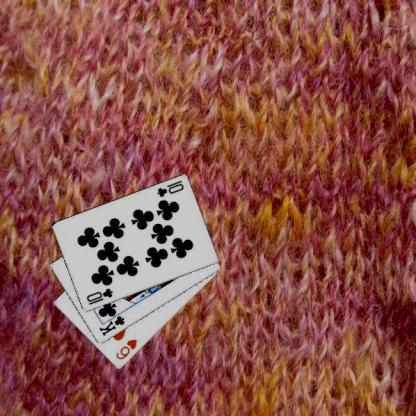10C: (83, 286, 114, 306), (154, 178, 185, 198)
6H: (113, 337, 138, 361)
KC: (96, 308, 125, 338)
